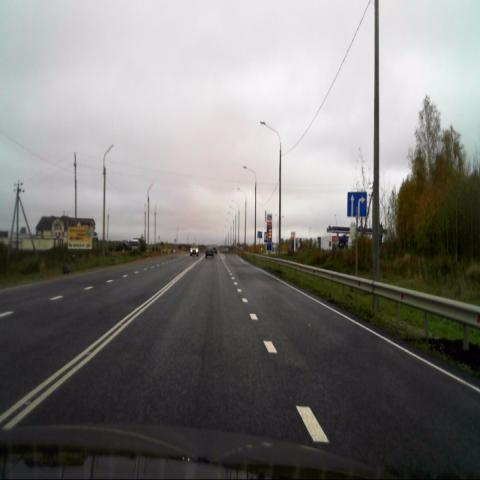5_15_2_2: (347, 192, 366, 217)
